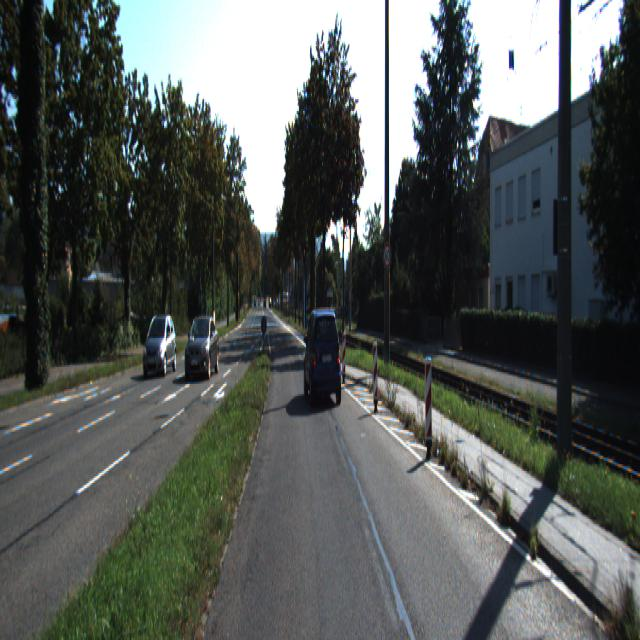Car: (303, 308, 343, 412), (184, 314, 220, 384), (142, 315, 177, 380)
